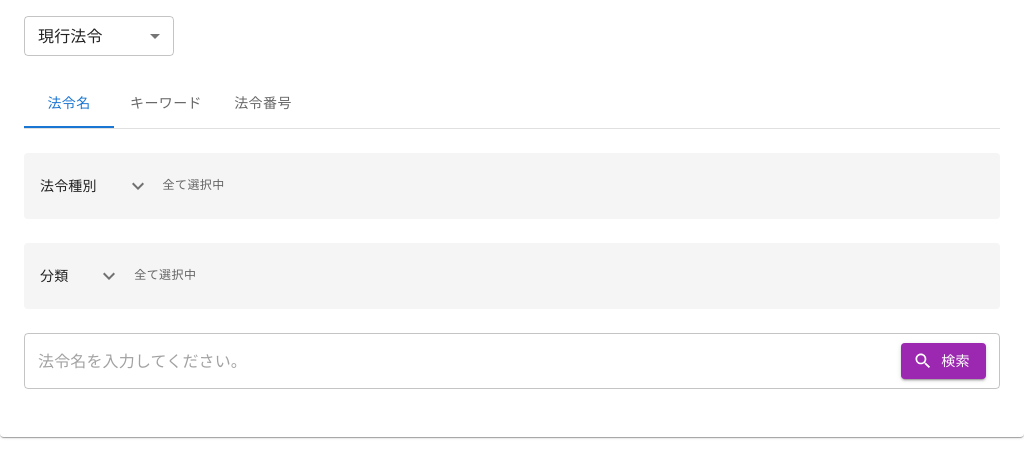
SearchForm › should switch to law number search when number tab is clicked
Click the tab "法令番号": (263, 104) x1=218 y1=80 x2=308 y2=128
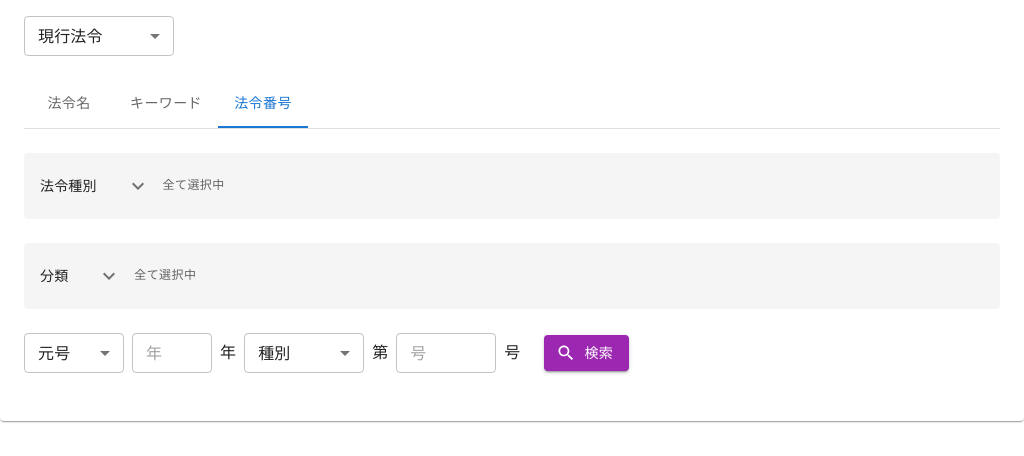
Result: the dropdown "元号" is shown at x1=38 y1=344 x2=70 y2=362
Result: the field with placeholder "年" is shown at x1=132 y1=333 x2=212 y2=373
Result: the field with placeholder "号" is shown at x1=396 y1=333 x2=496 y2=373
